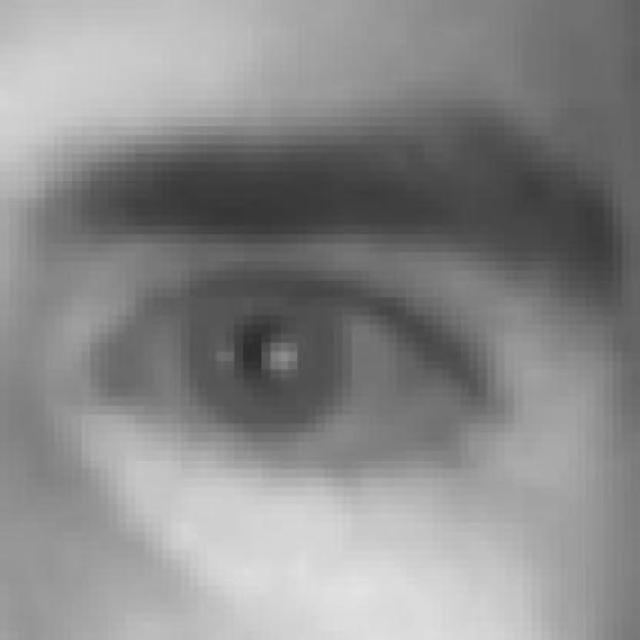awake: (92, 264, 500, 478)
